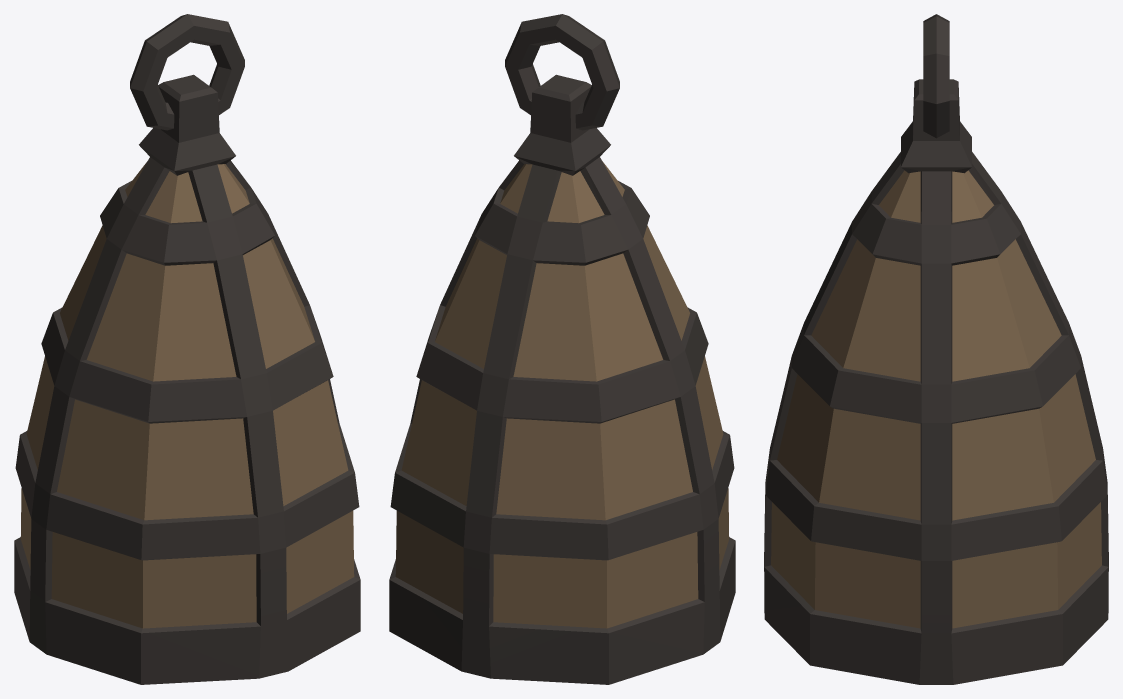
The model's file is buoy.fbx.
The picture shows the model from 3 angles, left to right: view 1: azimuth 30°, elevation 25°; view 2: azimuth 150°, elevation 25°; view 3: azimuth 270°, elevation 25°; orthographic projection.
Parts seen in each view (by area): view 1: buoy; view 2: buoy; view 3: buoy.
Boxes of the visible parts, x1=… form: buoy: x1=14, y1=14, x2=360, y2=684; buoy: x1=389, y1=14, x2=735, y2=684; buoy: x1=764, y1=14, x2=1108, y2=684.
Size of the model in its own units: 1.04 by 2.06 by 1.04.
